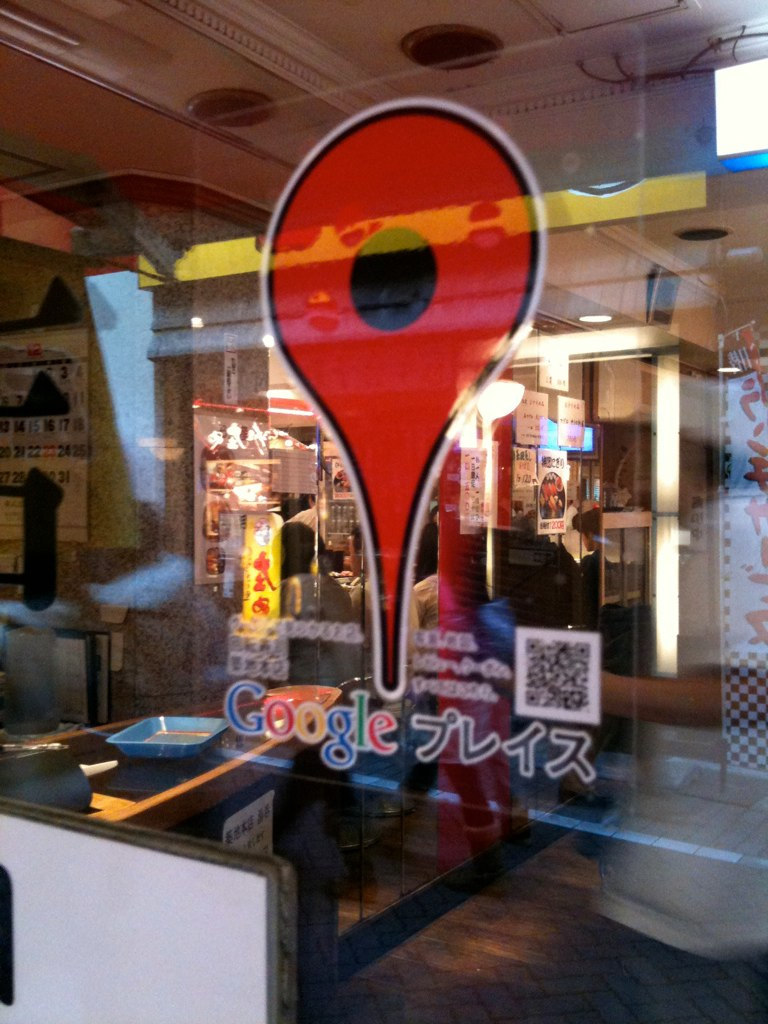QR-CODE: (525, 639, 590, 711)
